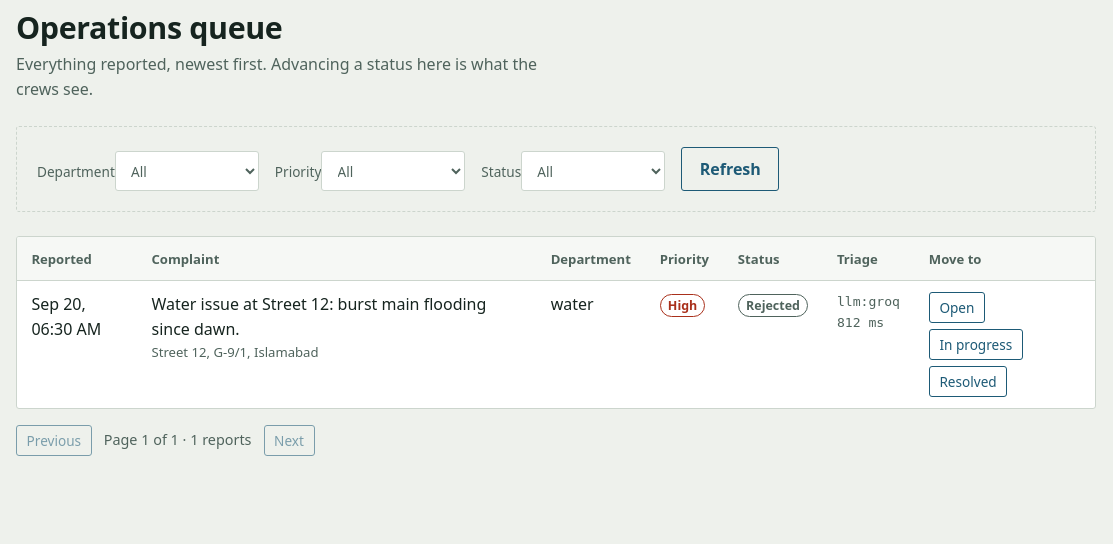
Test case: Operations queue › surfaces the server's 409 message verbatim
This screenshot has width=1113, height=544.
Expected: the text "Water issue at Street 12: burst main flooding since dawn." is shown, [152,292,522,342]
Click the button "Resolved" at (968, 381), box [929,366,1007,397]
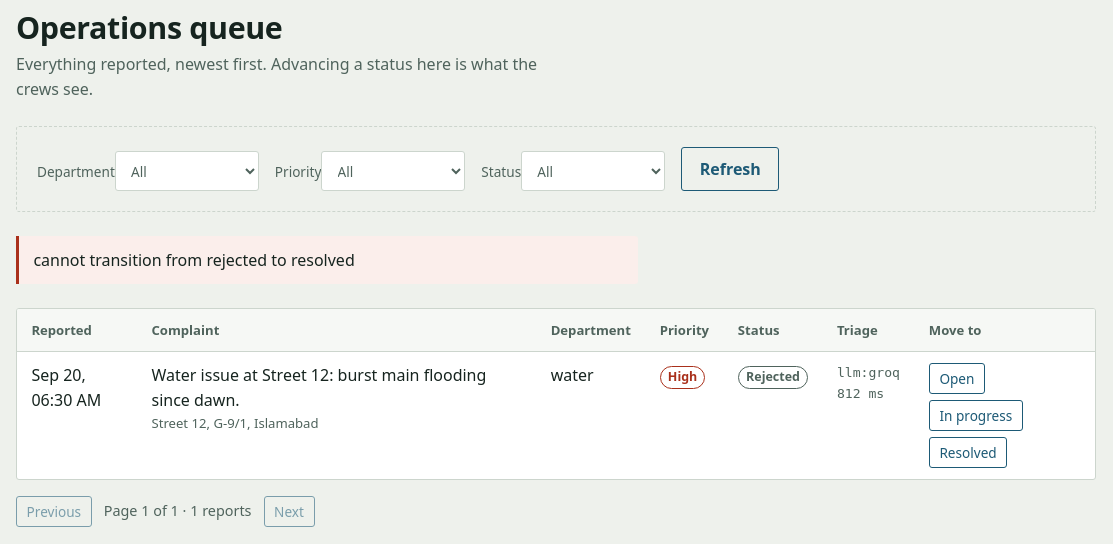
Expected: the message reads "cannot transition from rejected to resolved", [33,248,355,270]
